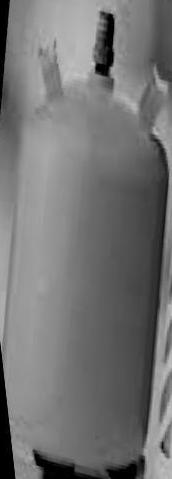cylinder: (1, 1, 172, 479)
